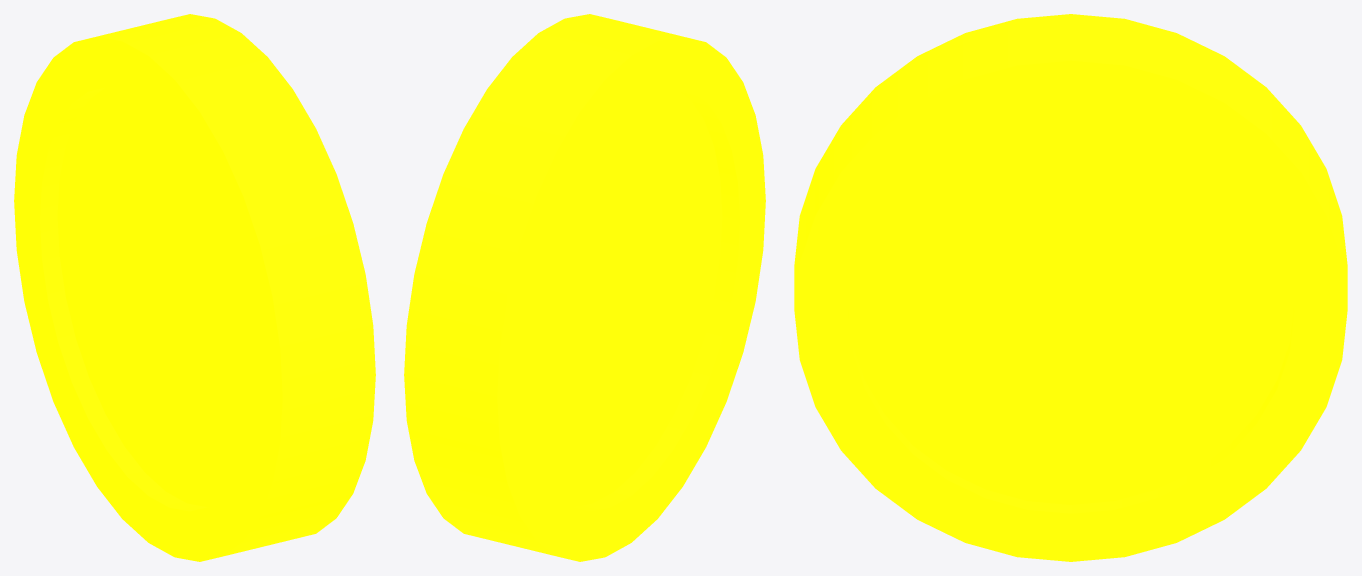
The model's file is coin.glb.
3 views of the same model, side by side, from view 1: azimuth 30°, elevation 25°; view 2: azimuth 150°, elevation 25°; view 3: azimuth 270°, elevation 25° (orthographic). The views are drawn at different scales.
Parts seen in each view (by area): view 1: coin; view 2: coin; view 3: coin.
Part boxes in pixels (x1,y1,x2,y2): coin: (14, 14, 375, 561); coin: (404, 14, 765, 561); coin: (794, 14, 1347, 561).
Size of the model in its own units: 0.05 by 0.25 by 0.25.
